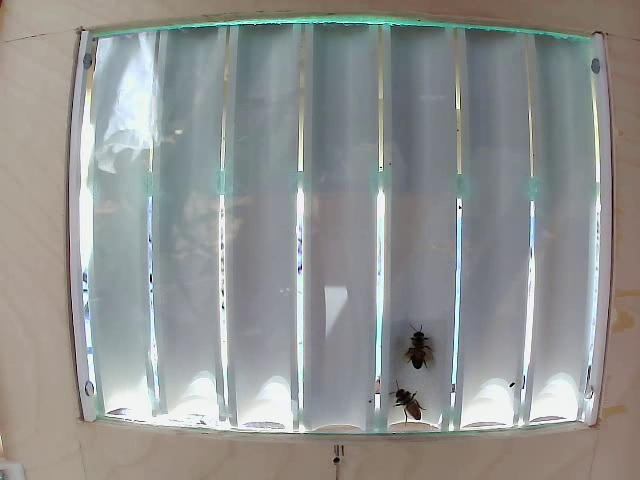bee: (406, 324, 439, 383), (387, 381, 425, 419)
